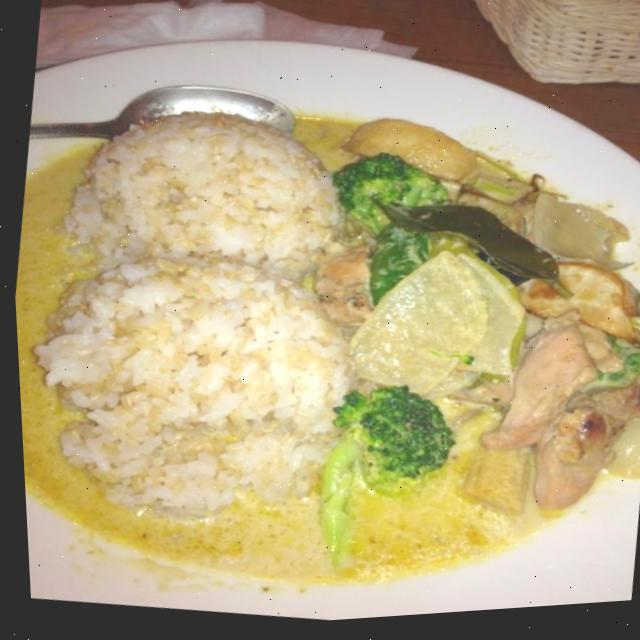面条主食: (49, 22, 605, 566)
